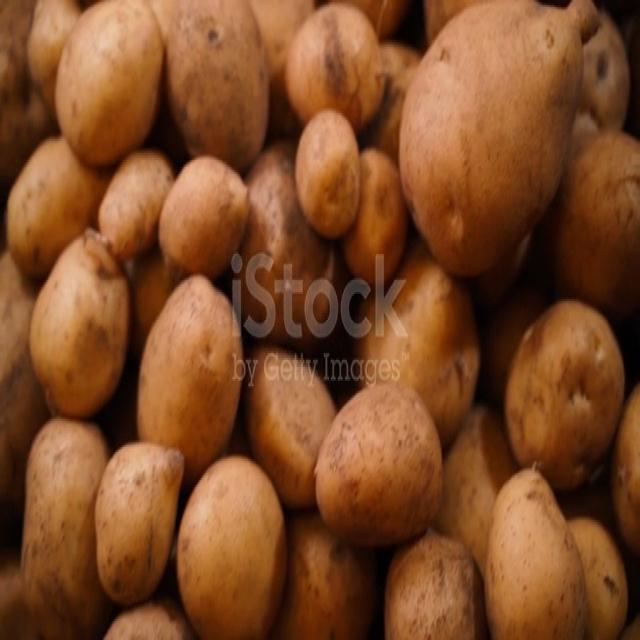potato: (399, 0, 598, 276), (505, 300, 625, 489), (138, 276, 244, 482), (359, 261, 480, 436), (315, 383, 442, 546), (21, 417, 112, 639), (178, 457, 286, 639), (240, 141, 335, 341), (30, 228, 130, 416), (55, 0, 164, 166), (166, 0, 269, 171), (485, 470, 586, 639), (549, 130, 640, 317), (95, 443, 184, 605), (248, 348, 335, 508), (6, 137, 102, 277), (285, 2, 384, 130), (386, 530, 486, 639), (159, 159, 249, 277), (342, 148, 408, 284), (295, 111, 360, 238), (100, 150, 174, 260), (568, 520, 628, 638)
